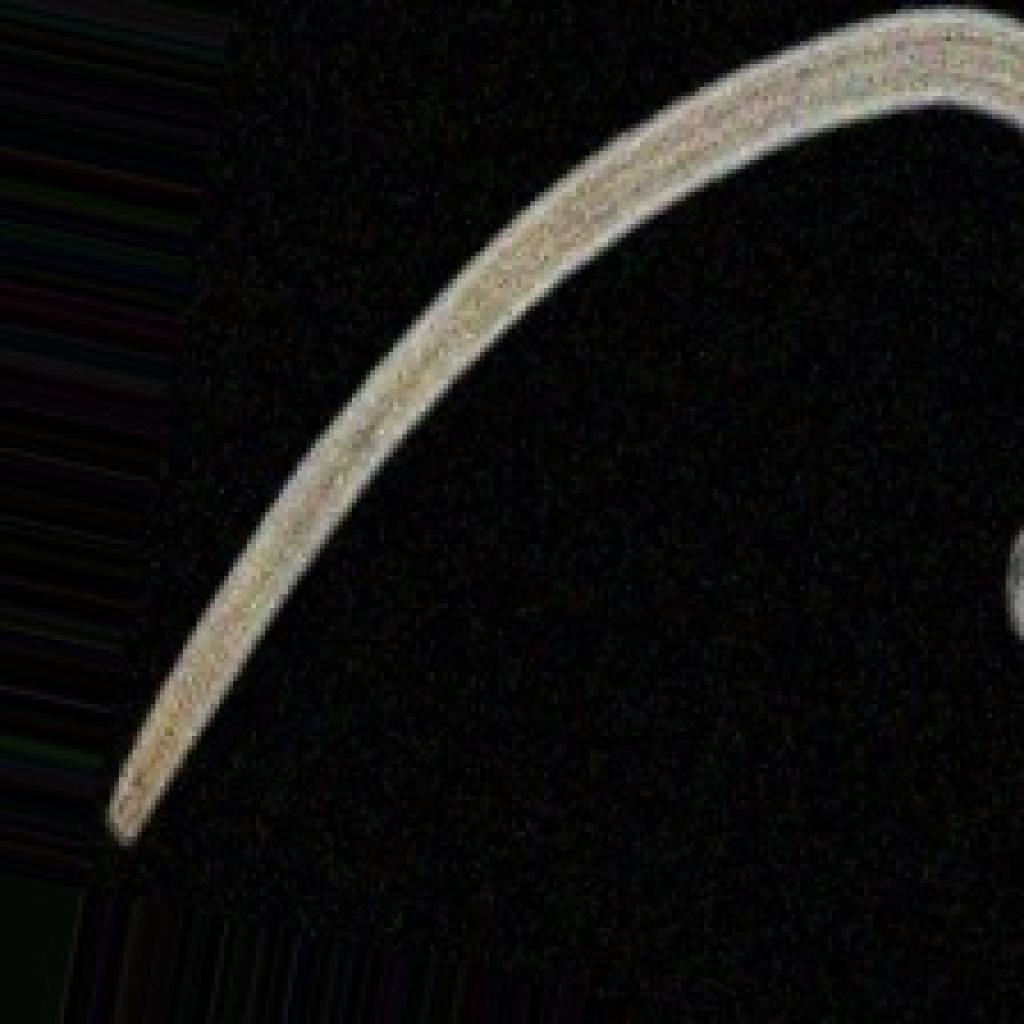Nematode: (85, 30, 1024, 895)
